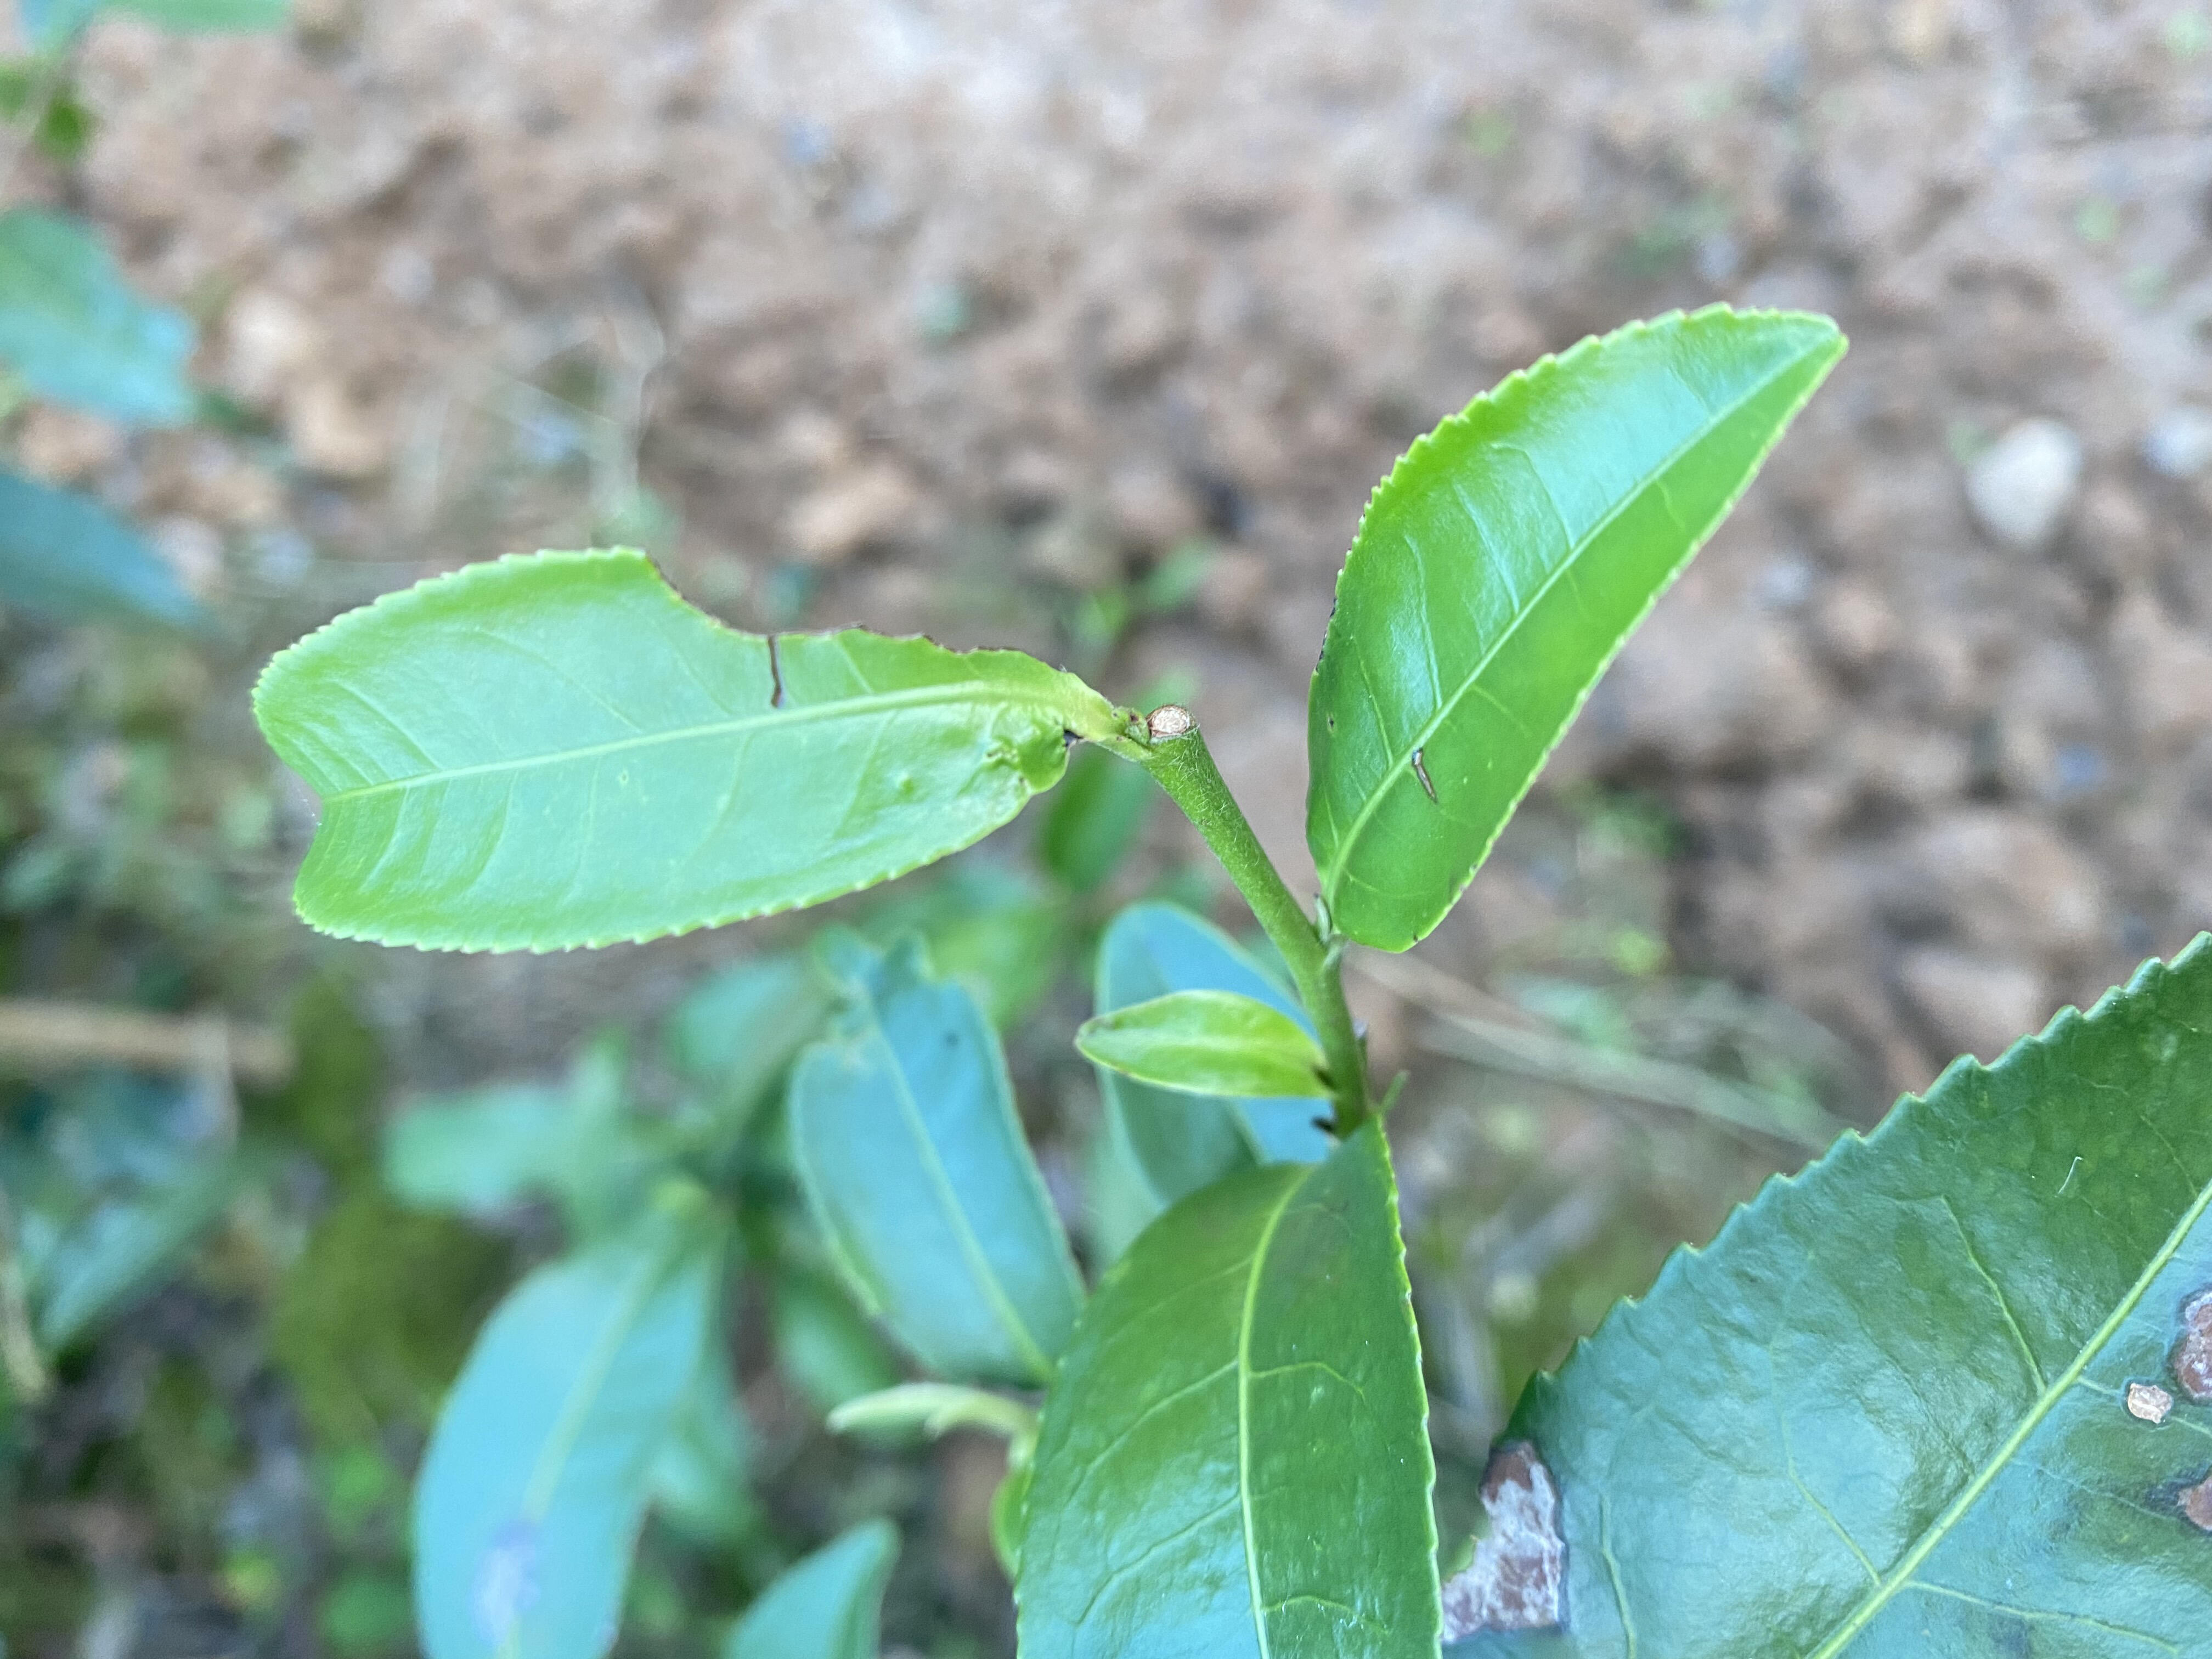chihuo_low: (249, 545, 1087, 960)
healthy: (1014, 1112, 1444, 1657), (1069, 990, 1332, 1101)
tanju_high: (1446, 924, 2212, 1656)
tanju_low: (1303, 300, 1850, 957)
